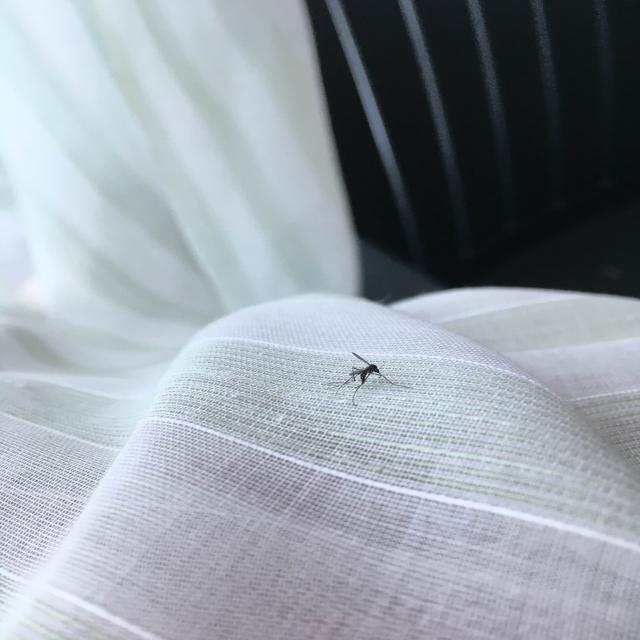albopictus: (321, 348, 412, 408)
